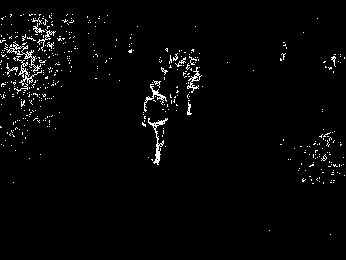person: (143, 76, 173, 172)
